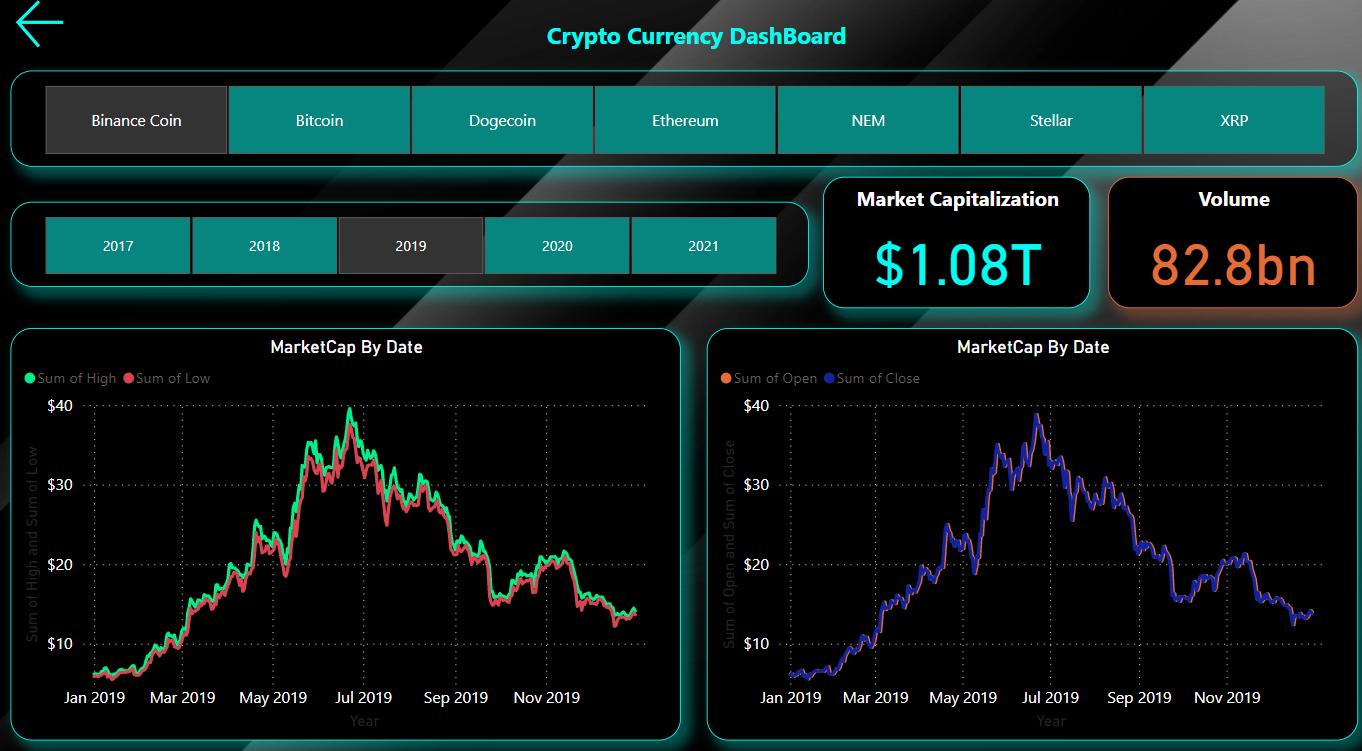

This screenshot's page, from the dashboard's own definition file:
{"tool":"powerbi","page":{"name":"Page 2","canvas":[1280,720],"ordinal":1},"visuals":[{"type":"slicer","fields":{"Values":["cryptodata.Name"]},"box":[16.3,72.1,1254.4,89.6],"z":0},{"type":"slicer","fields":{"Values":["cryptodata.Year"]},"box":[16.3,194.3,743.6,79.1],"z":1000},{"type":"lineChart","title":"MarketCap By Date","fields":{"Category":["cryptodata.Date.Variation.Date Hierarchy.Year","cryptodata.Date.Variation.Date Hierarchy.Quarter","cryptodata.Date.Variation.Date Hierarchy.Month","cryptodata.Date.Variation.Date Hierarchy.Day"],"Y":["Sum(cryptodata.High)","Sum(cryptodata.Low)"]},"box":[16.3,311.9,623.7,384],"z":2000},{"type":"actionButton","box":[16.3,0,55.9,58.2],"z":3000},{"type":"textbox","box":[510.8,19.8,307.2,38.4],"z":4000},{"type":"card","title":"Volume","fields":{"Values":["Sum(cryptodata.Volume)"]},"box":[1038,171.1,232.7,122.2],"z":5000},{"type":"card","title":"Market Capitalization","fields":{"Values":["Sum(cryptodata.Marketcap)"]},"box":[772.7,171.1,249,122.2],"z":6000},{"type":"lineChart","title":"MarketCap By Date","fields":{"Category":["cryptodata.Date.Variation.Date Hierarchy.Year","cryptodata.Date.Variation.Date Hierarchy.Quarter","cryptodata.Date.Variation.Date Hierarchy.Month","cryptodata.Date.Variation.Date Hierarchy.Day"],"Y":["Sum(cryptodata.Open)","Sum(cryptodata.Close)"]},"box":[664.4,311.9,606.3,384],"z":7000}]}

Visuals, with their boxes in screenshot pixels (x1, y1, x2, y2), scaled from the page's 1280x720 canvas onto the 1362x751 screenshot:
slicer - cryptodata.Name: rect(17, 75, 1352, 169)
slicer - cryptodata.Year: rect(17, 203, 809, 285)
"MarketCap By Date" lineChart: rect(17, 325, 681, 726)
actionButton: rect(17, 0, 77, 61)
textbox: rect(544, 21, 870, 61)
"Volume" card: rect(1104, 178, 1352, 306)
"Market Capitalization" card: rect(822, 178, 1087, 306)
"MarketCap By Date" lineChart: rect(707, 325, 1352, 726)
